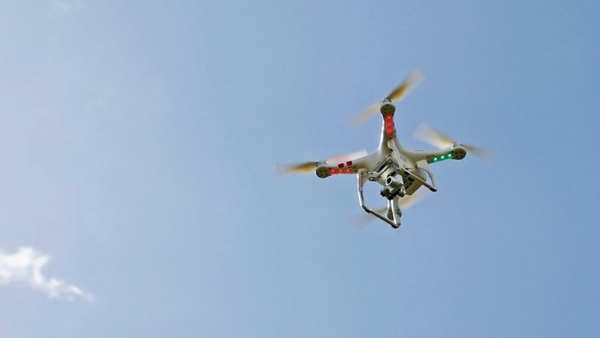drone: (271, 70, 497, 230)
